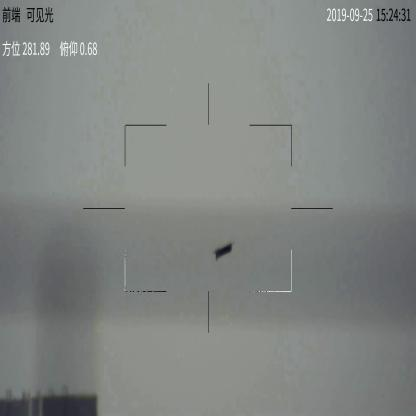uav: (213, 243, 234, 260)
